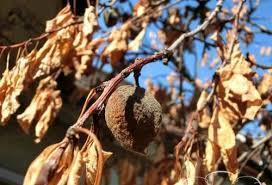mummified_fruits: (105, 85, 161, 152)
